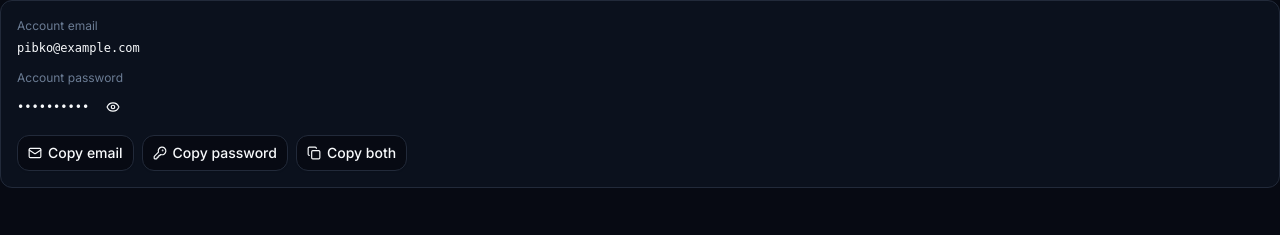
Test: SelectedAccountCredentials › shows a refusal from the server without copying anything
Click the button "Copy password" at coordinates (215, 153), box [142, 135, 288, 171]
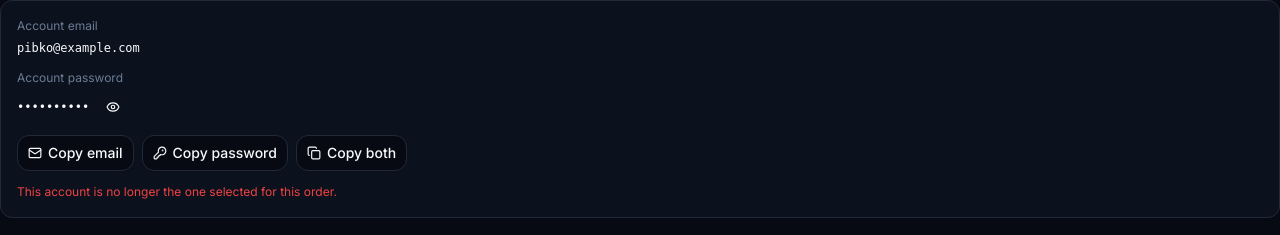
Check: the message shows "no longer", box [17, 184, 337, 199]
